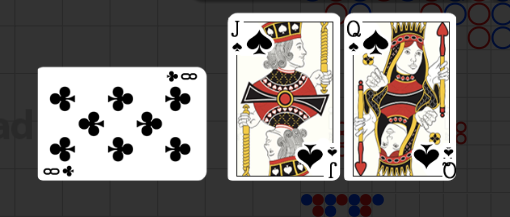8C: (164, 70, 198, 84), (43, 164, 77, 177)
9S: (442, 144, 456, 181)
JS: (295, 132, 339, 179), (228, 12, 272, 58)
